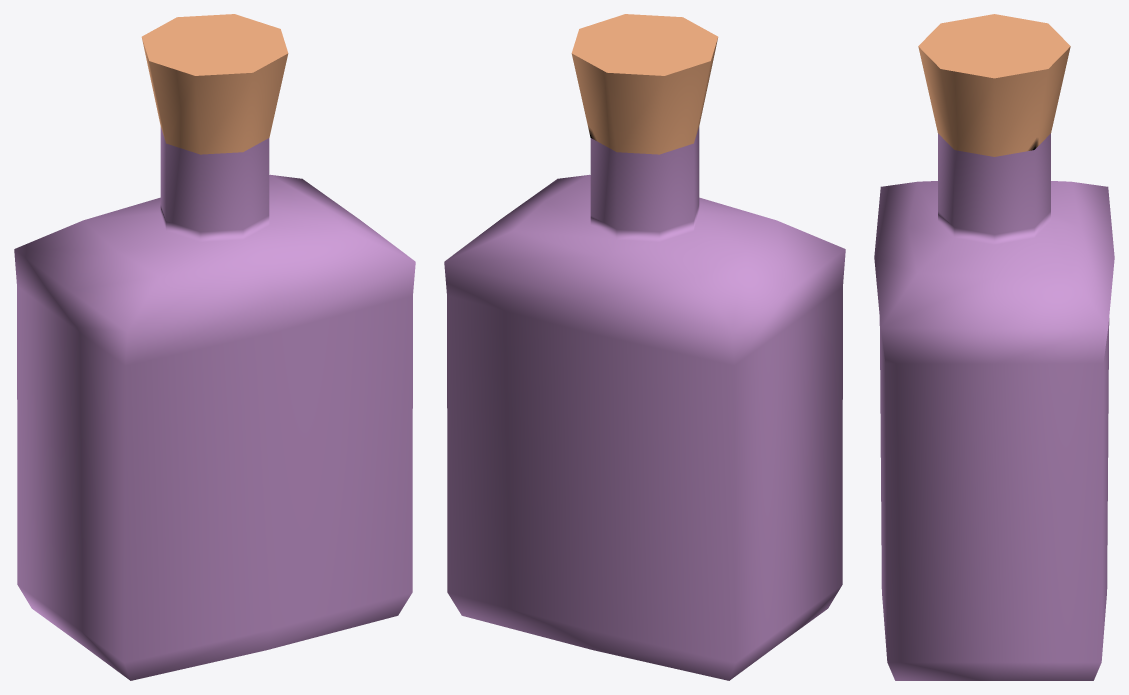
Rendered from BAR_LiqourBottle14_Body.fbx.
The picture shows the model from 3 angles, left to right: view 1: azimuth 30°, elevation 25°; view 2: azimuth 150°, elevation 25°; view 3: azimuth 270°, elevation 25°; orthographic projection.
Parts seen in each view (by area): view 1: Bottle14_Body; view 2: Bottle14_Body; view 3: Bottle14_Body.
Part boxes in pixels (x1,y1,x2,y2): Bottle14_Body: (14,14,415,680); Bottle14_Body: (444,14,845,680); Bottle14_Body: (874,14,1114,680).
Size of the model in its own units: 8.09 by 15.07 by 5.77.
